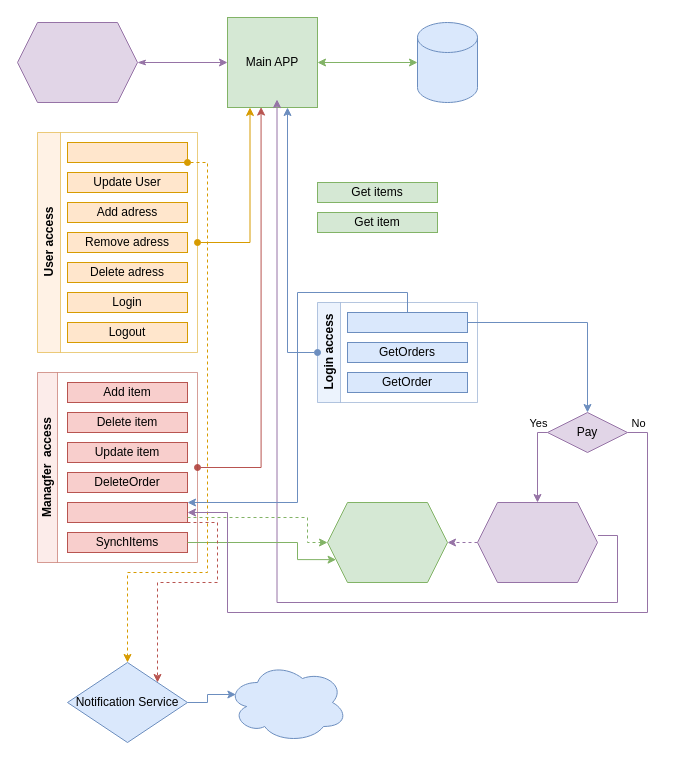
Some shapes in this 673 by 760 pixel diagram are drawn without their labels. The centre of each missing label's shape, as x and y in pixels:
Add User: (127,152)
API: (77,62)
ConfirmOrder: (127,512)
Connectors: (387,542)
Database: (447,62)
Payment Connector: (537,542)
SetOrder: (407,322)
Telegram Push Email: (287,702)
